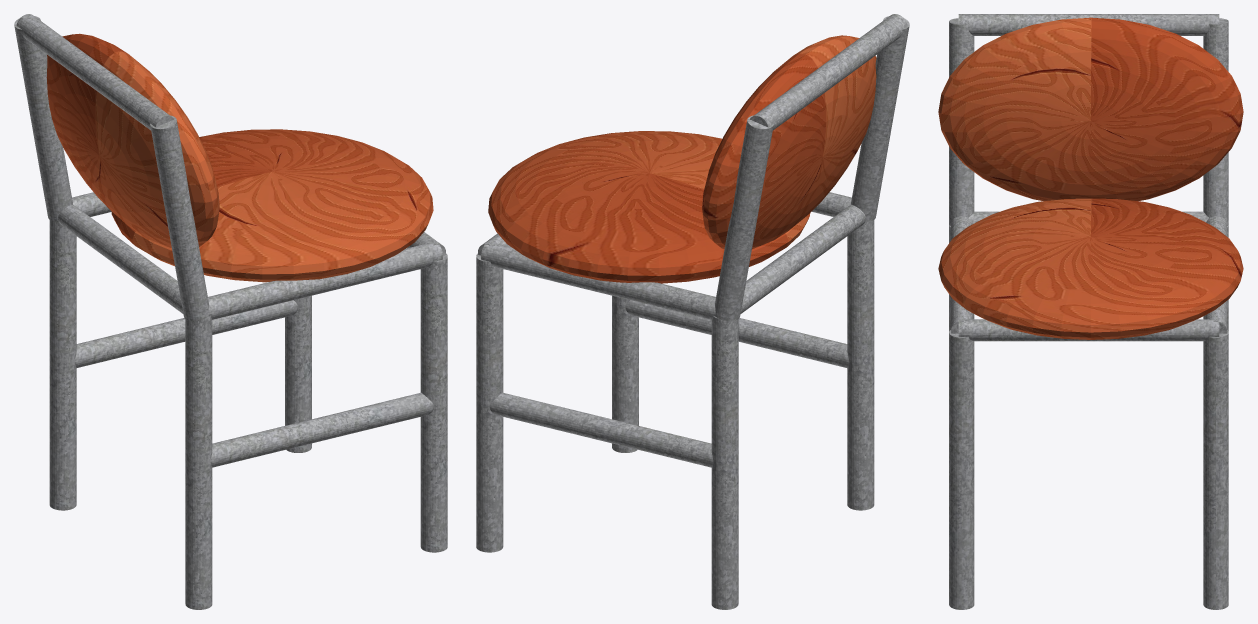
The model's file is chair.fbx.
3 views of the same model, side by side, from view 1: azimuth 30°, elevation 25°; view 2: azimuth 150°, elevation 25°; view 3: azimuth 270°, elevation 25° (orthographic). The views are drawn at different scales.
Parts seen in each view (by area): view 1: Sphere, Sphere.001, Cylinder.001, Cylinder, Cylinder.013, Cylinder.004, Cylinder.007, Cylinder.012, Cylinder.014, Cylinder.002, Cylinder.005, Cylinder.010 (+3 smaller); view 2: Sphere, Sphere.001, Cylinder.001, Cylinder.003, Cylinder.002, Cylinder.012, Cylinder.005, Cylinder.013, Cylinder.006, Cylinder.014, Cylinder.004, Cylinder.008 (+3 smaller); view 3: Sphere.001, Sphere, Cylinder.003, Cylinder, Cylinder.014, Cylinder.009, Cylinder.013, Cylinder.012, Cylinder.007, Cylinder.006.
Part boxes in pixels (x1,y1,x2,y2): Sphere: (111, 129, 433, 282); Sphere.001: (46, 33, 219, 247); Cylinder.001: (185, 316, 212, 609); Cylinder: (420, 253, 447, 552); Cylinder.013: (150, 115, 208, 321); Cylinder.004: (210, 392, 434, 467); Cylinder.007: (208, 241, 442, 319); Cylinder.012: (14, 16, 72, 221); Cylinder.014: (16, 14, 174, 130); Cylinder.002: (49, 220, 63, 510); Cylinder.005: (74, 300, 298, 367); Cylinder.010: (55, 226, 76, 510); Sphere: (488, 131, 810, 283); Sphere.001: (702, 35, 876, 249); Cylinder.001: (847, 220, 874, 510); Cylinder.003: (476, 253, 503, 552); Cylinder.002: (712, 316, 738, 609); Cylinder.012: (715, 115, 773, 321); Cylinder.005: (489, 392, 713, 467); Cylinder.013: (851, 16, 909, 221); Cylinder.006: (481, 241, 715, 319); Cylinder.014: (749, 14, 907, 130); Cylinder.004: (625, 300, 849, 367); Cylinder.008: (740, 204, 865, 313); Sphere.001: (938, 17, 1243, 201); Sphere: (938, 198, 1243, 339); Cylinder.003: (1203, 330, 1228, 609); Cylinder: (949, 330, 974, 609); Cylinder.014: (958, 14, 1219, 35); Cylinder.009: (958, 319, 1219, 341); Cylinder.013: (949, 18, 974, 225); Cylinder.012: (1203, 18, 1228, 225); Cylinder.007: (950, 216, 972, 333); Cylinder.006: (1205, 216, 1226, 333).
Size of the model in its own units: 140 by 205 by 120.
